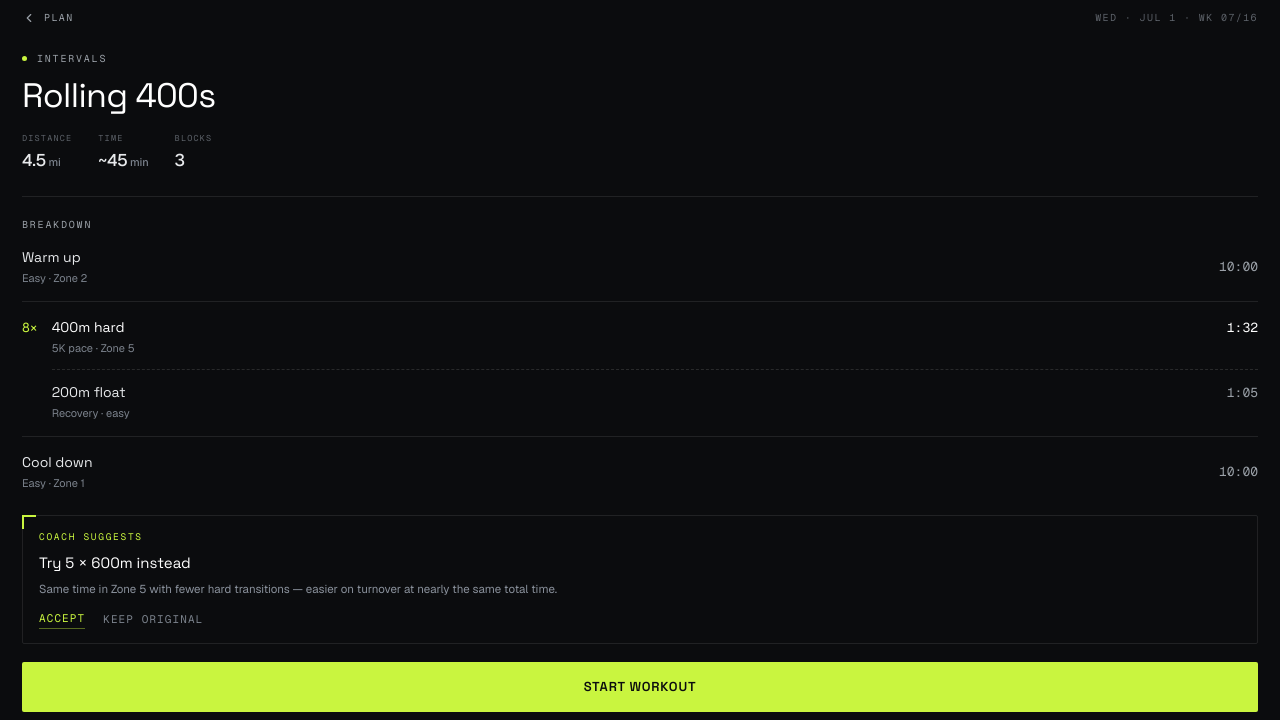
Scenario: KEEP ORIGINAL dismisses the proposal without mutating the plan
Click the button "KEEP ORIGINAL" at (153, 619), box [103,611,203,628]
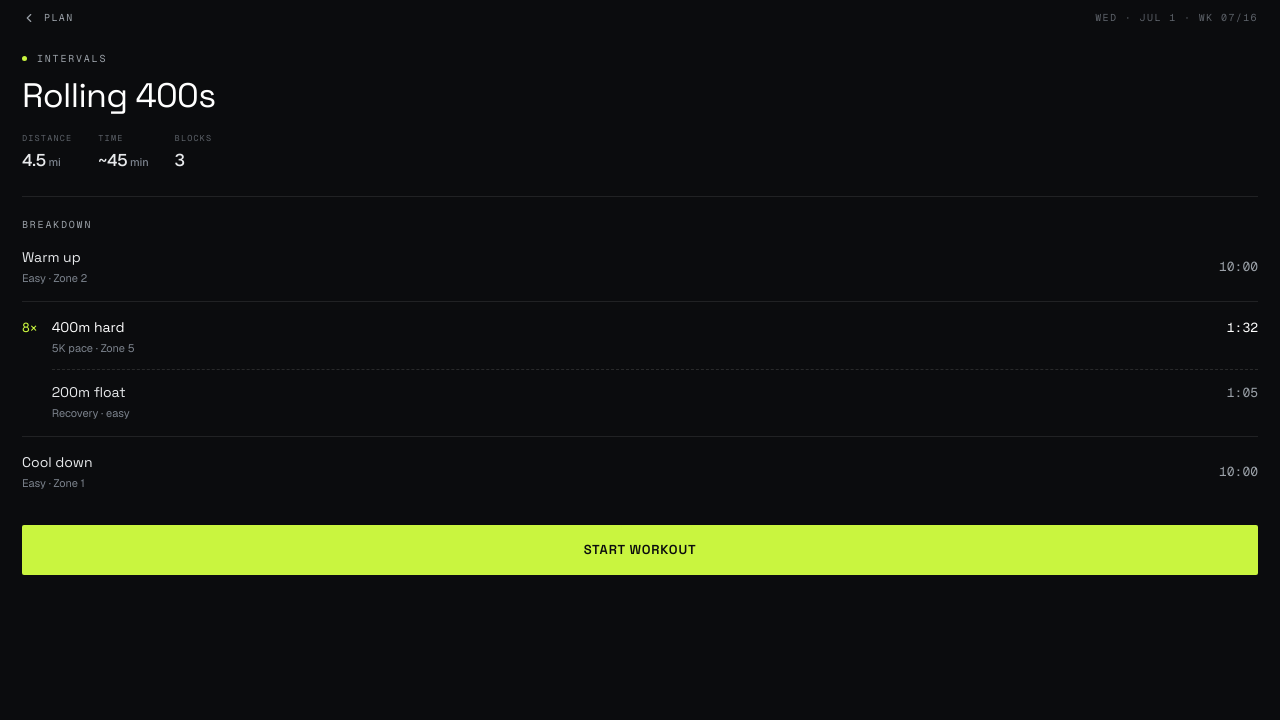
Check: the text "Rolling 400s" is shown, box [22,74,216,117]
Check: the text "COACH SUGGESTS" is gone
